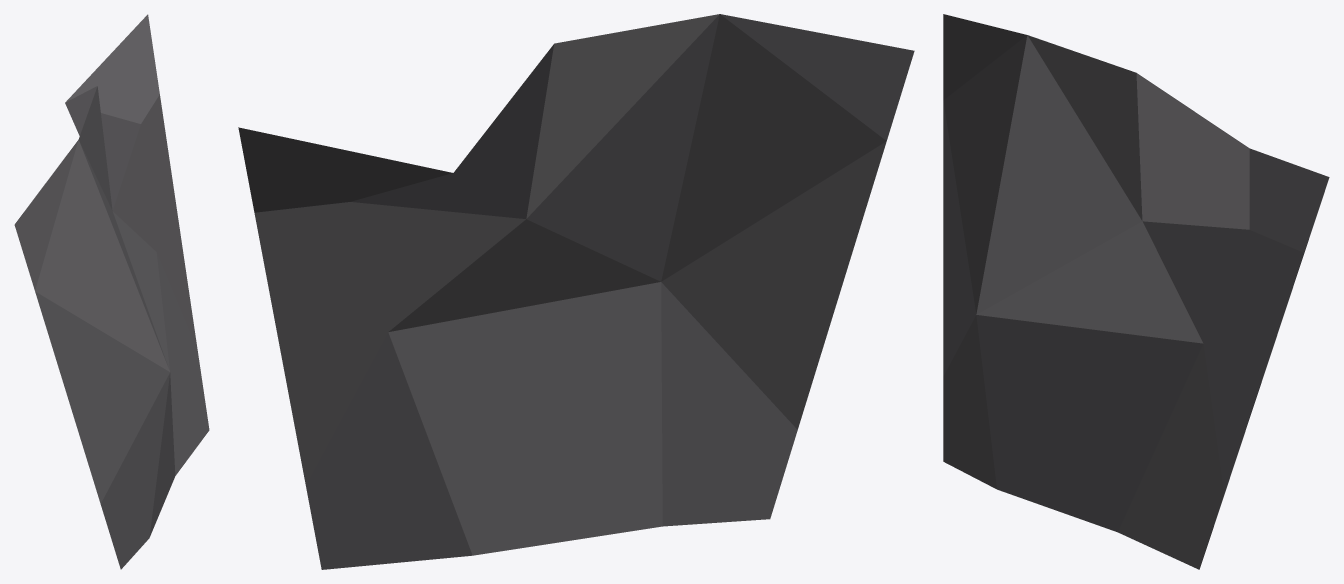
The model's file is mesh_nature_cliff_bottom_corner_inverted.fbx.
The picture shows the model from 3 angles, left to right: view 1: azimuth 30°, elevation 25°; view 2: azimuth 150°, elevation 25°; view 3: azimuth 270°, elevation 25°; orthographic projection. The views are drawn at different scales.
Visible parts, largest first — view 1: mesh_nature_cliff_bottom_corner_inverted; view 2: mesh_nature_cliff_bottom_corner_inverted; view 3: mesh_nature_cliff_bottom_corner_inverted.
Part boxes in pixels (left/top/right/bottom): mesh_nature_cliff_bottom_corner_inverted: left=14, top=14, right=209, bottom=569; mesh_nature_cliff_bottom_corner_inverted: left=238, top=14, right=914, bottom=569; mesh_nature_cliff_bottom_corner_inverted: left=943, top=14, right=1329, bottom=569.
Size of the model in its own units: 178 by 217 by 178.
